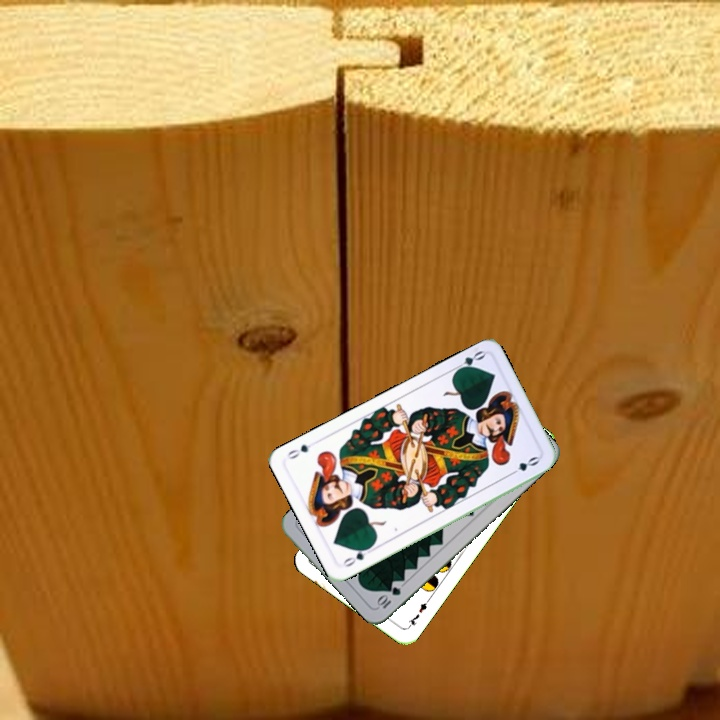E7: (404, 595, 432, 630)
G10: (373, 583, 404, 611)
GO: (449, 346, 487, 376), (338, 542, 375, 570)
